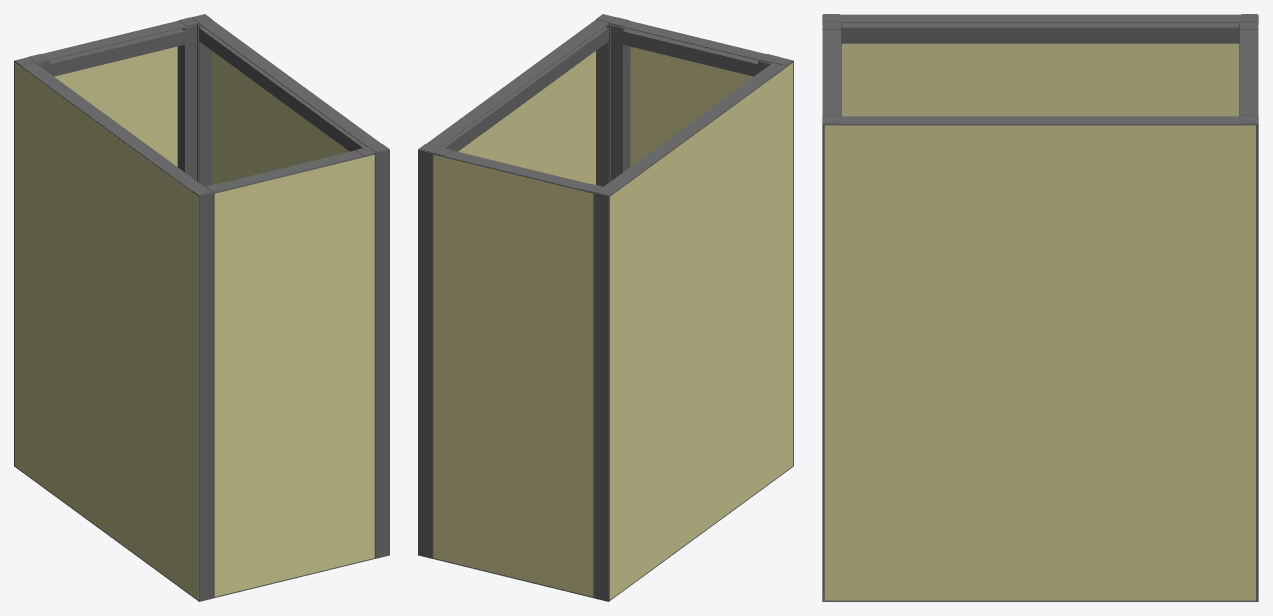
The model's file is Header Half Panels and full.glb.
3 renders of one model, left to right at view 1: azimuth 30°, elevation 25°; view 2: azimuth 150°, elevation 25°; view 3: azimuth 270°, elevation 25°, orthographic. The views are drawn at different scales.
Visible parts, largest first — view 1: Standard 38.024, Standard 19.010, Standard 38.025, Standard 19.006; view 2: Standard 38.024, Standard 19.006, Standard 38.025, Standard 19.010; view 3: Standard 38.025, Standard 38.024, Standard 19.006, Standard 19.010.
Part boxes in pixels (x1,y1,x2,y2): Standard 38.024: (14,57,212,601); Standard 19.010: (205,147,376,598); Standard 38.025: (191,14,389,558); Standard 19.006: (28,17,198,182); Standard 38.024: (595,57,793,601); Standard 19.006: (431,147,602,598); Standard 38.025: (418,14,616,558); Standard 19.010: (609,17,779,182); Standard 38.025: (822,115,1258,601); Standard 38.024: (822,14,1258,116); Standard 19.006: (1240,22,1258,116); Standard 19.010: (822,22,840,116).
Bounding box in the file's own units: 0.5767 × 1.17 × 0.9691.
